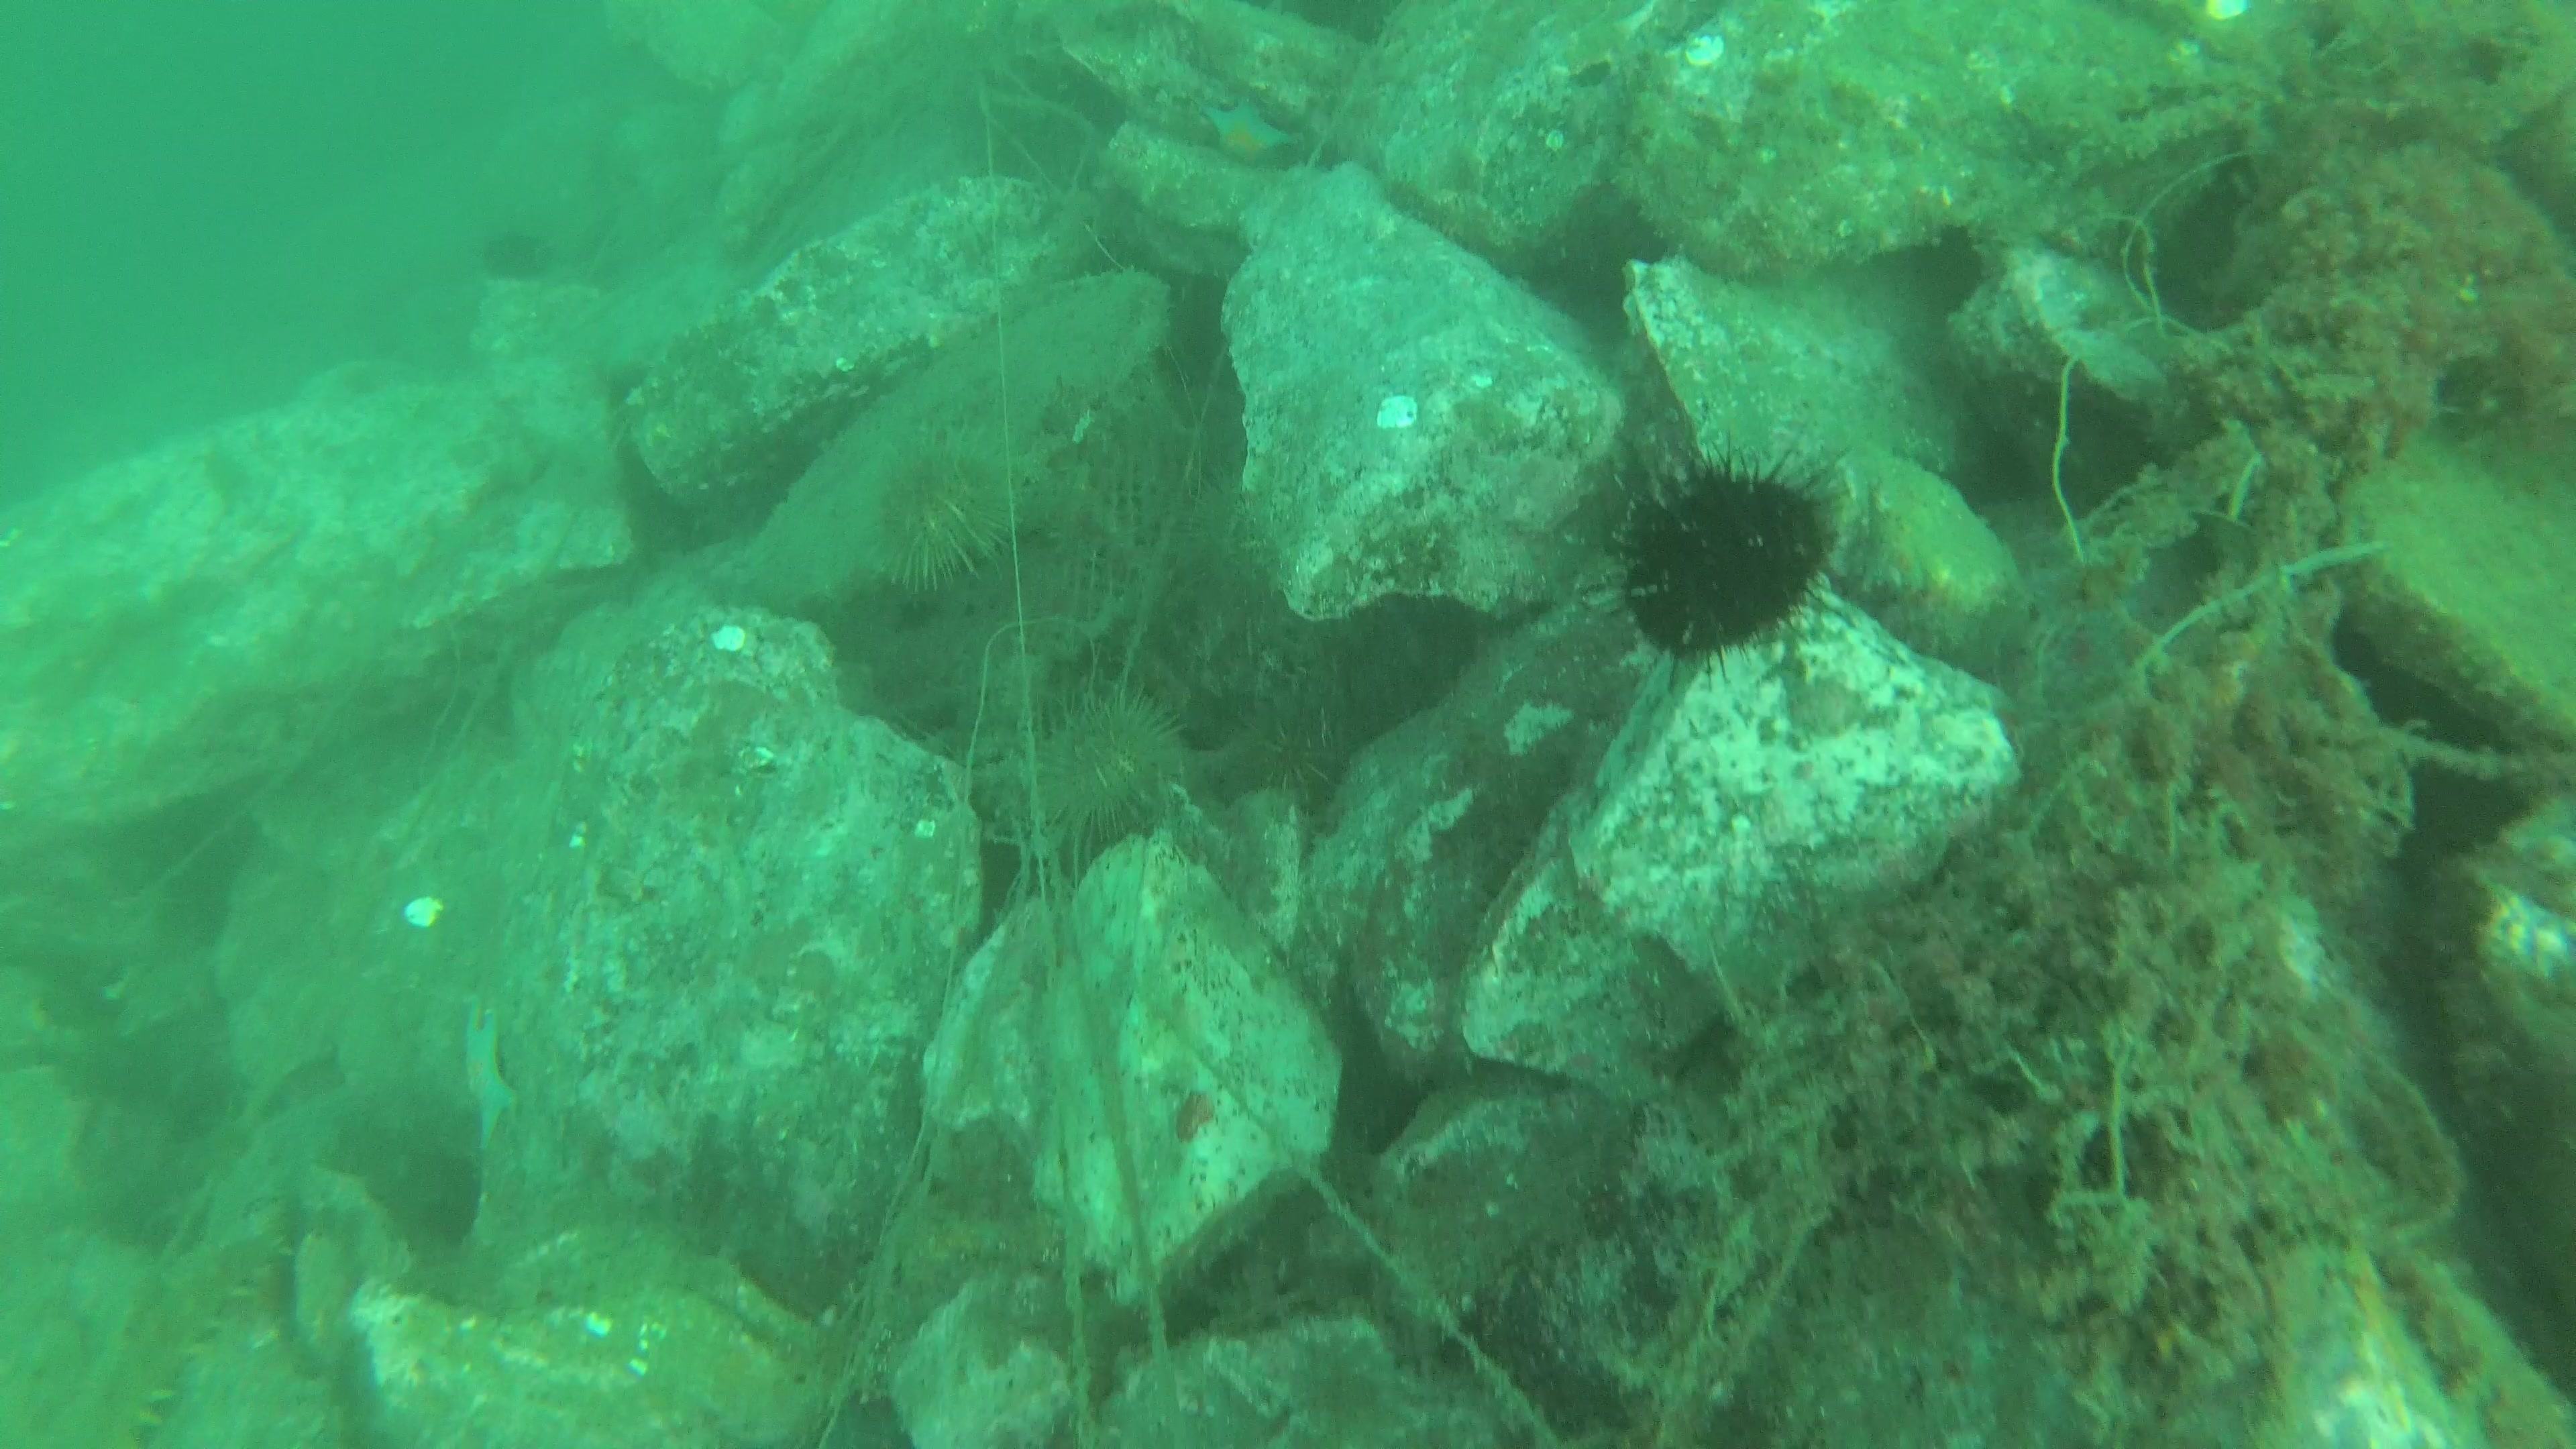echinus: (1605, 444, 1847, 672), (1017, 672, 1200, 853), (863, 433, 1019, 591), (1203, 692, 1359, 819), (1169, 467, 1299, 610), (472, 216, 556, 287)
holothurian: (44, 1205, 283, 1449)
starfish: (449, 1000, 525, 1157), (1192, 88, 1307, 173)
